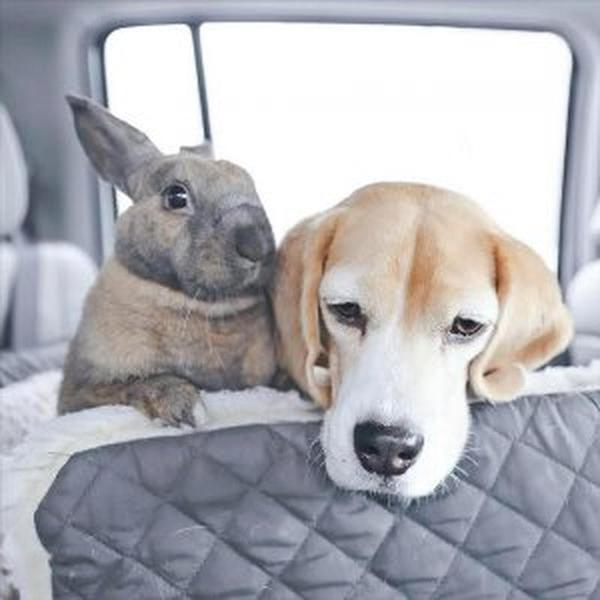allqu: (273, 163, 583, 514)
